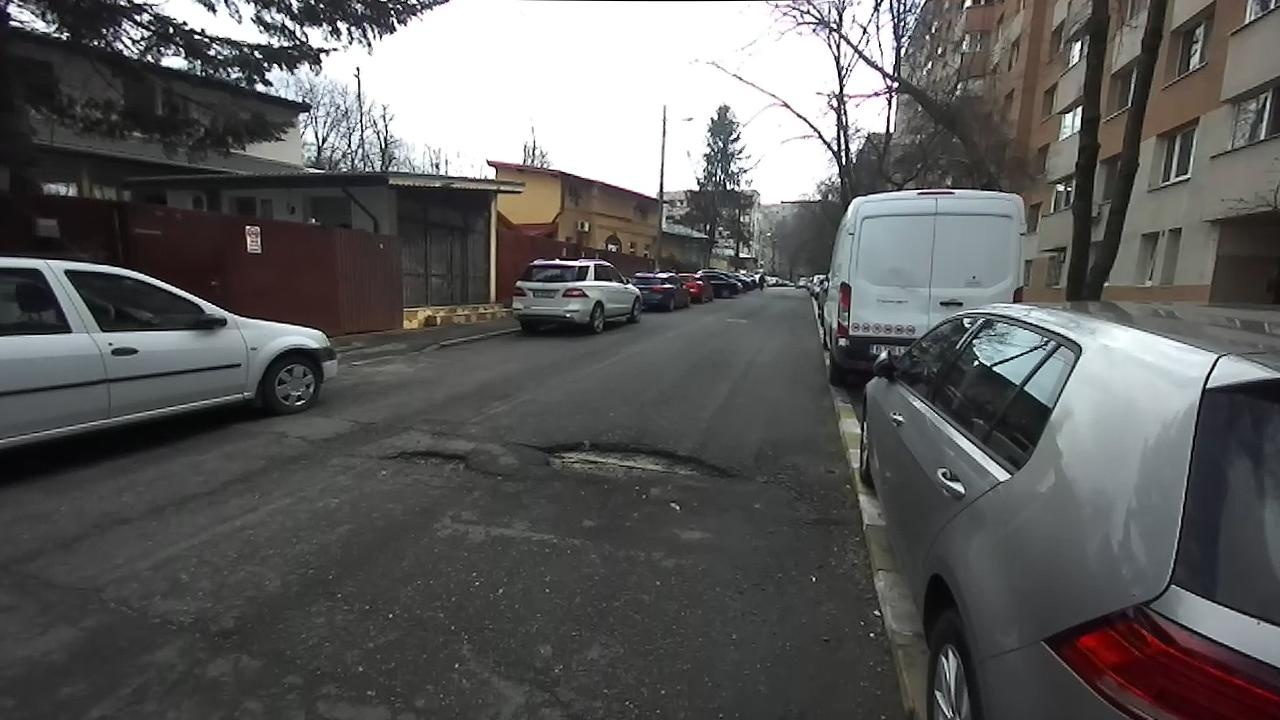pothole: (518, 438, 744, 486), (374, 443, 495, 477)
